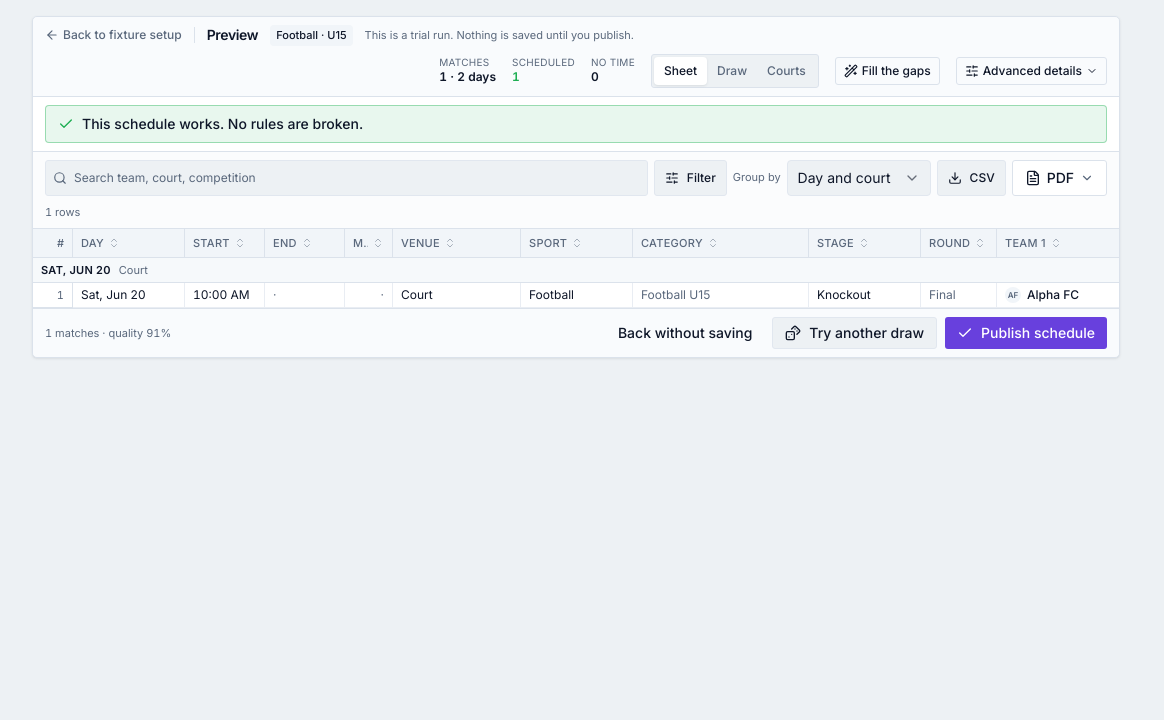
it: DryRunPreviewPage › shows only the bracket for a pure-knockout competition (no empty grid)
Click the radio button with test id "preview-view-draw" at (732, 70), box x1=707 y1=56 x2=757 y2=84
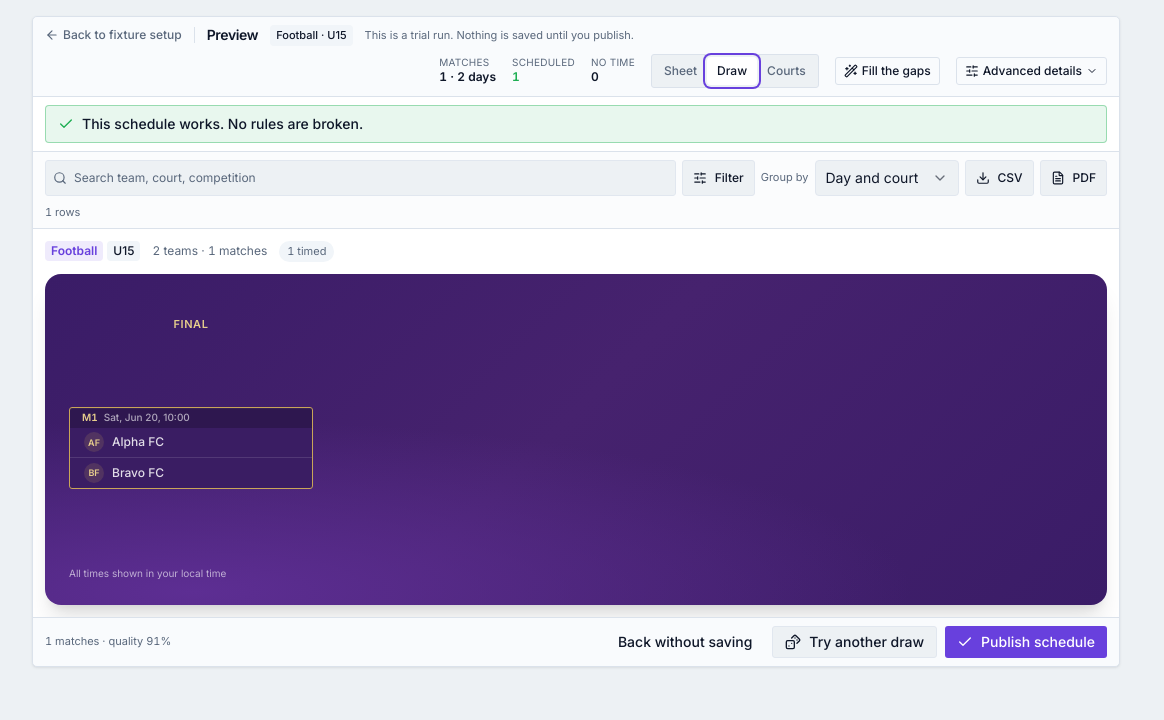
Result: the element with test id "preview-bracket" is shown at x1=45 y1=274 x2=1107 y2=604
